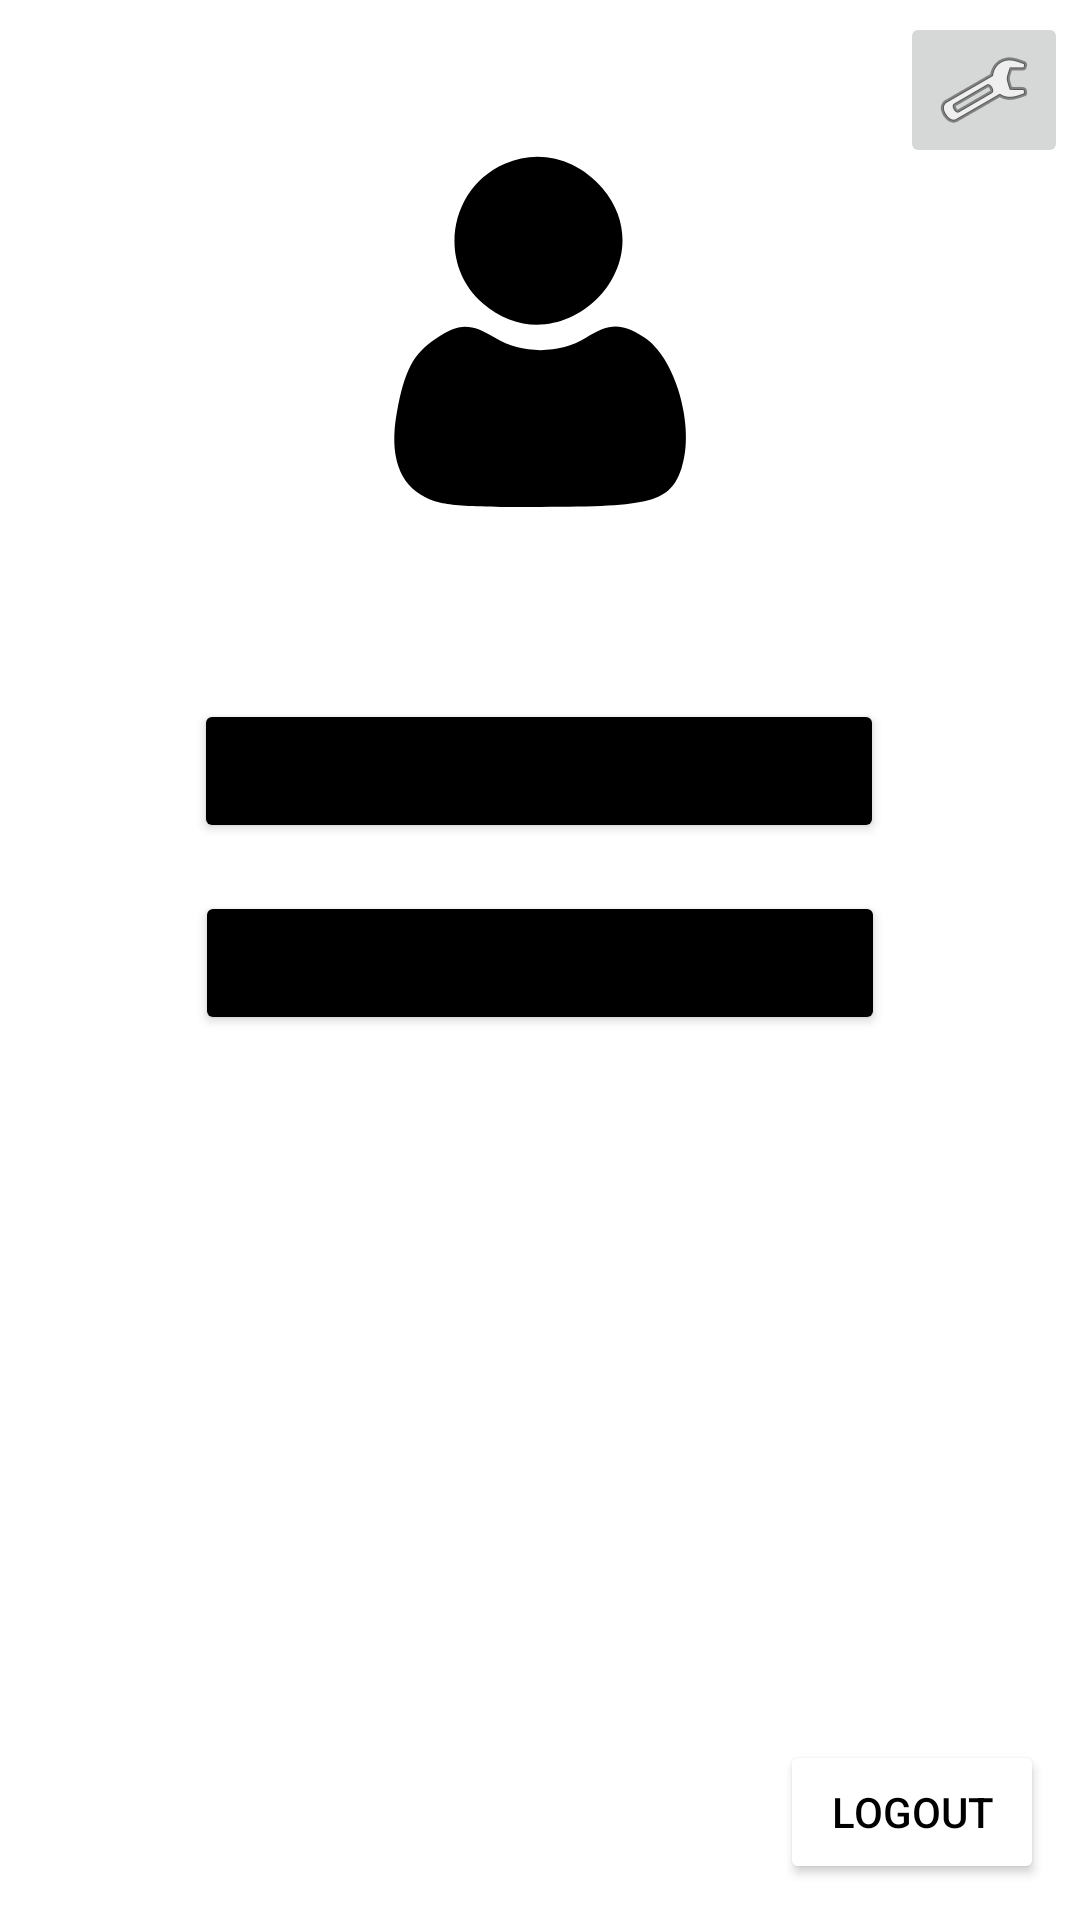

Named icons in this screenshot (1080x1920) and their centers, [x,y]:
manage: [984,90]
user: [540,331]
